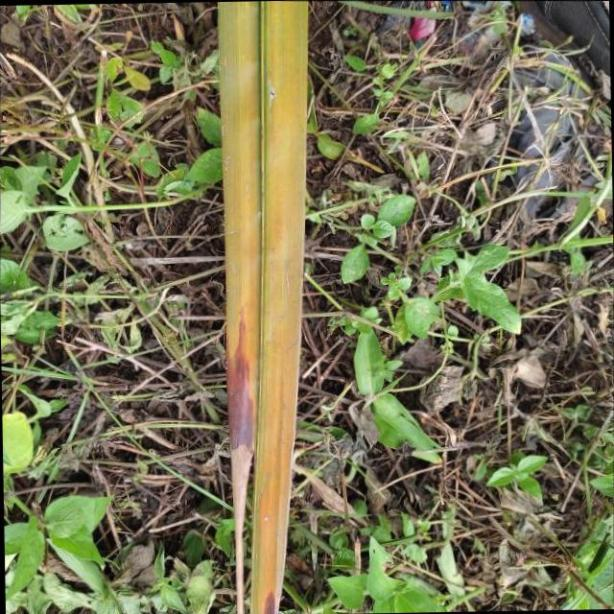Megnesium: (219, 0, 310, 614)
